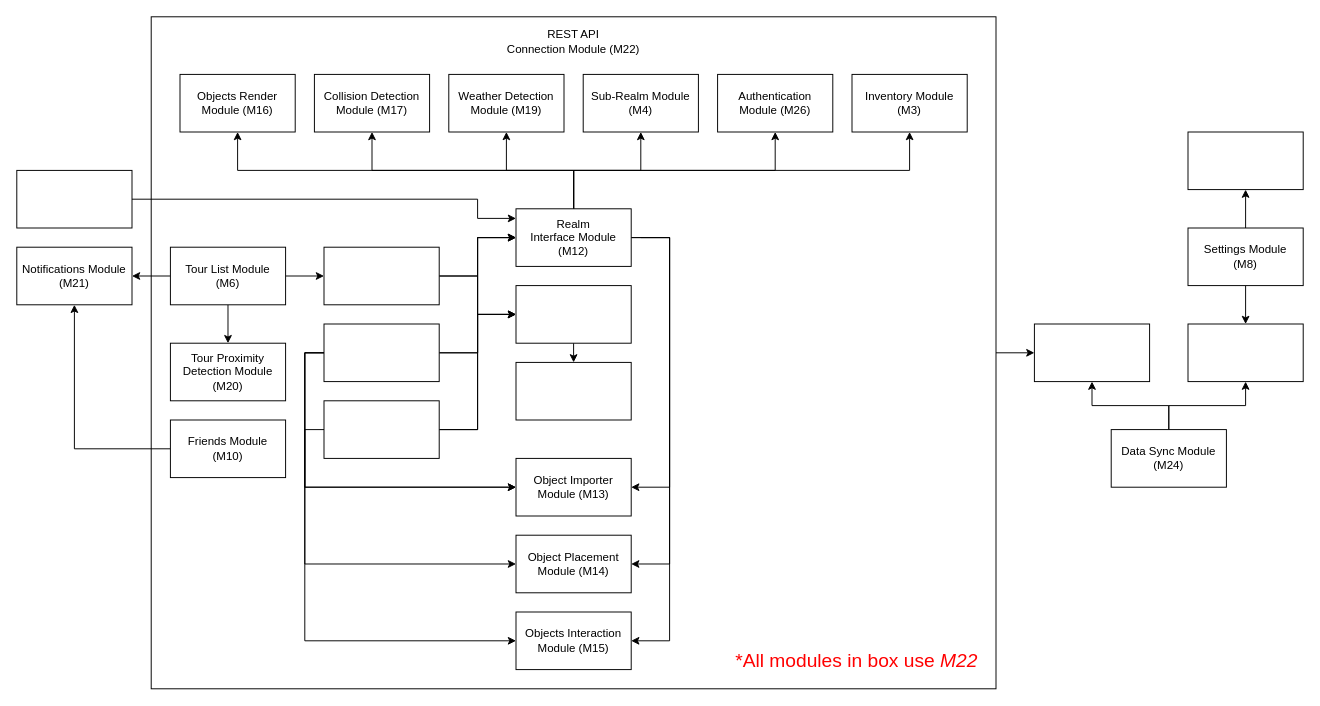
The diagram is 1320 pixels wide and 706 high, and some of its shapes have lost their labels. The box of each missing label's shape, as (x1, y1, x2, y2) in pixels:
Hardware Module (M1): (16, 169, 132, 228)
Help Module (M9): (1187, 131, 1303, 190)
Local Database Manager Module (M23): (1187, 323, 1303, 382)
Maps Module (M11): (515, 285, 631, 343)
Restricted Area Detection Module (M18): (515, 361, 631, 420)
Server Database Manager Module (M25): (1033, 323, 1150, 382)
Tour Management Module (M7): (323, 323, 439, 382)
Touring Module (M5): (323, 246, 439, 305)
Tutorial Module (M2): (323, 400, 439, 458)
